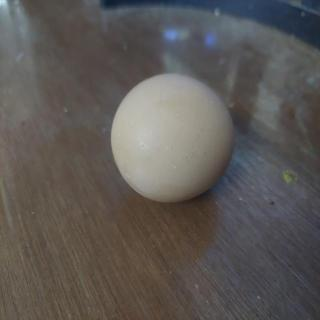Telur: (109, 72, 239, 204)
